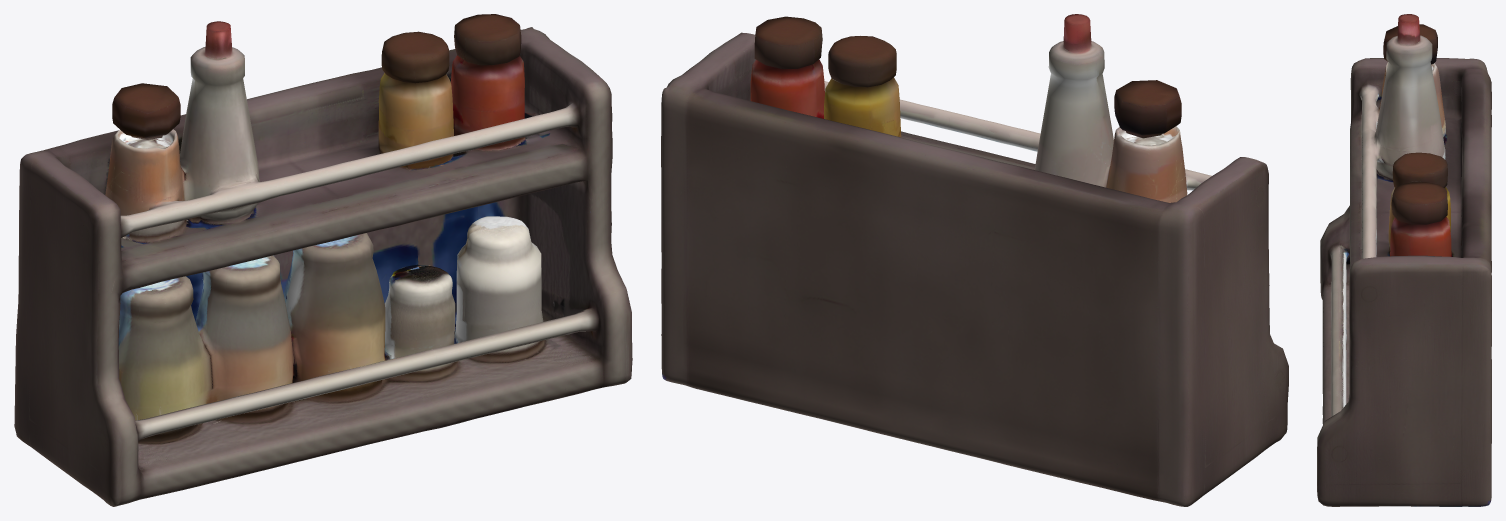
Rendered from Miniature_two_tier_bottle.glb.
3 views of the same model, side by side, from view 1: azimuth 30°, elevation 25°; view 2: azimuth 150°, elevation 25°; view 3: azimuth 270°, elevation 25° (orthographic). The views are drawn at different scales.
Bounding box in the file's own units: 1.91 × 1.44 × 0.6639.
1 material, 1 textured.
